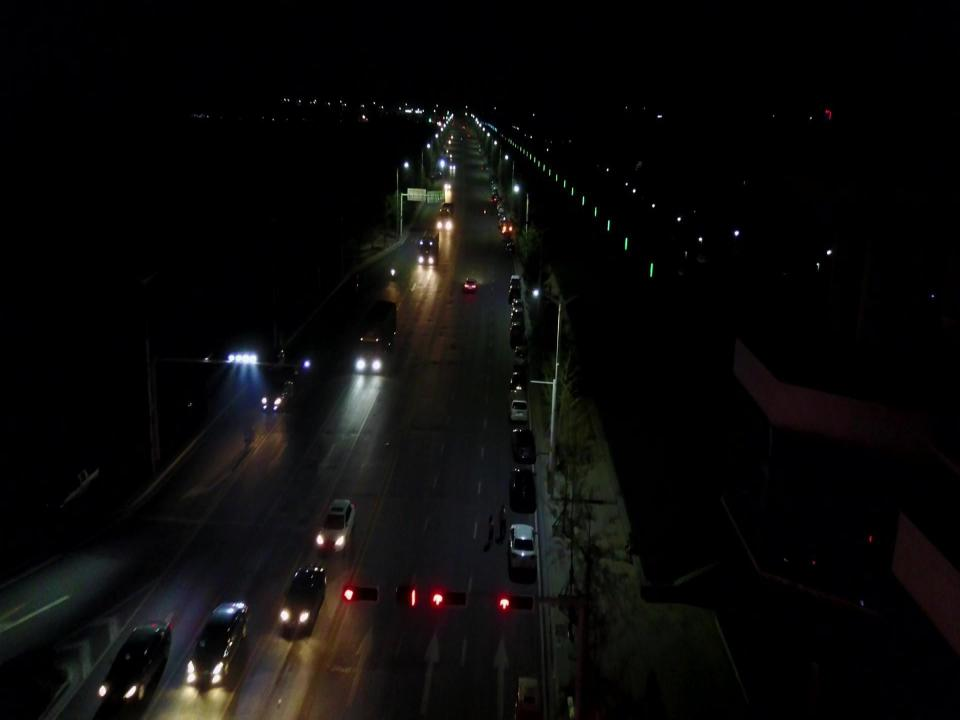car: (98, 620, 172, 707), (186, 600, 248, 685), (281, 565, 327, 628), (315, 498, 355, 552), (508, 524, 537, 565), (510, 468, 536, 513), (261, 378, 293, 412), (511, 427, 536, 464), (511, 364, 529, 391), (510, 322, 524, 347), (508, 285, 521, 303), (510, 308, 524, 324), (514, 346, 526, 363), (501, 221, 513, 236), (464, 278, 476, 292), (511, 299, 523, 312), (510, 274, 520, 288), (449, 159, 456, 171), (498, 219, 506, 229), (444, 179, 452, 189), (496, 206, 504, 214), (491, 196, 498, 204), (492, 188, 498, 195), (491, 185, 497, 190), (468, 134, 472, 138), (462, 126, 465, 130)
truck: (356, 301, 396, 373), (419, 228, 439, 264), (438, 203, 454, 229)
van: (508, 390, 528, 421), (499, 212, 506, 221), (496, 201, 502, 209)
